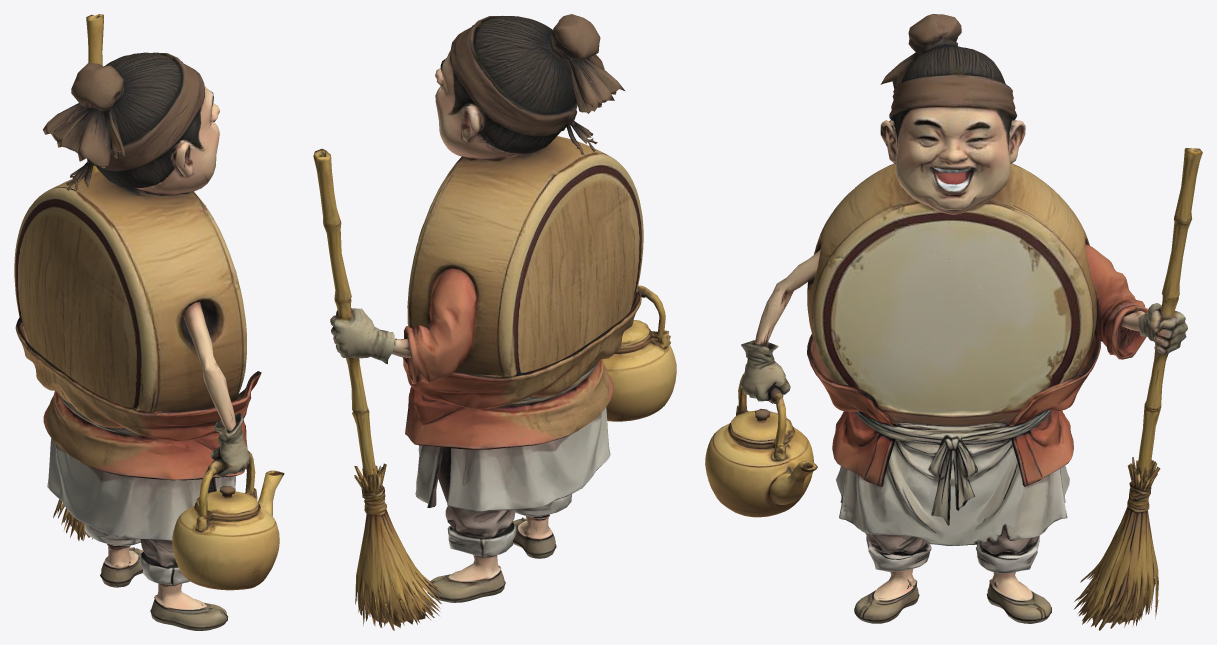
Rendered from p_b1p_laohan.glb.
3 renders of one model, left to right at view 1: azimuth 30°, elevation 25°; view 2: azimuth 150°, elevation 25°; view 3: azimuth 270°, elevation 25°, orthographic.
Visible parts, largest first — view 1: tripo_node_c7cff7f5-2be6-42e9-9006-36057917cc2f; view 2: tripo_node_c7cff7f5-2be6-42e9-9006-36057917cc2f; view 3: tripo_node_c7cff7f5-2be6-42e9-9006-36057917cc2f.
Part boxes in pixels (bbox=[...]): tripo_node_c7cff7f5-2be6-42e9-9006-36057917cc2f: bbox=[14, 14, 284, 630]; tripo_node_c7cff7f5-2be6-42e9-9006-36057917cc2f: bbox=[313, 14, 676, 630]; tripo_node_c7cff7f5-2be6-42e9-9006-36057917cc2f: bbox=[705, 14, 1202, 630].
Bounding box in the file's own units: 0.3196 × 0.9801 × 0.787.
Materials: 1 (1 with a texture image).
